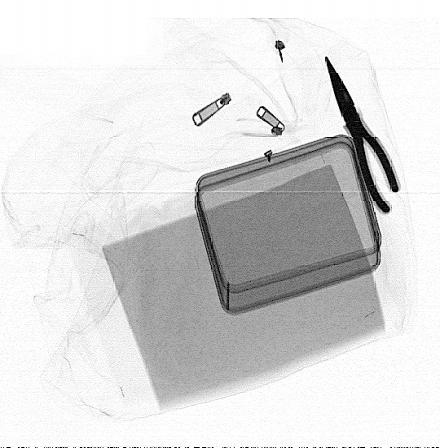Pliers: (323, 52, 401, 218)
